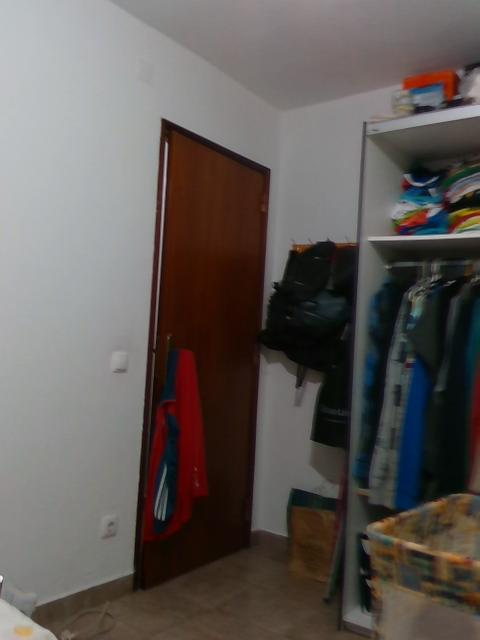closed_door: (131, 115, 270, 591)
